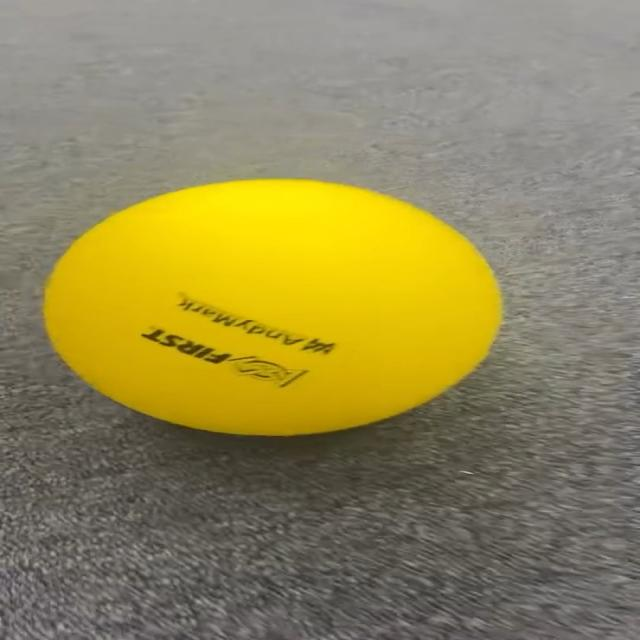Fuels: (46, 181, 501, 432)
